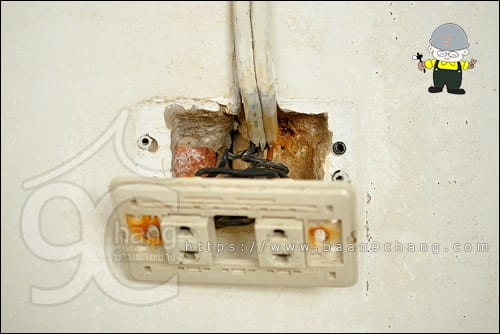Three_eye_plug: (106, 166, 367, 296)
